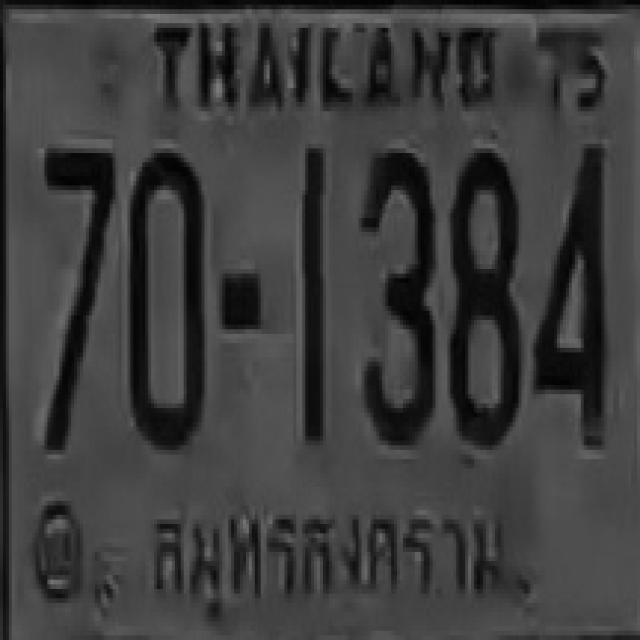0: (128, 148, 202, 446)
1: (299, 144, 323, 440)
3: (358, 148, 432, 440)
4: (532, 139, 606, 445)
7: (40, 144, 114, 445), (43, 144, 114, 352)
8: (448, 148, 518, 440)
SamutSongkhram: (139, 488, 512, 602)
